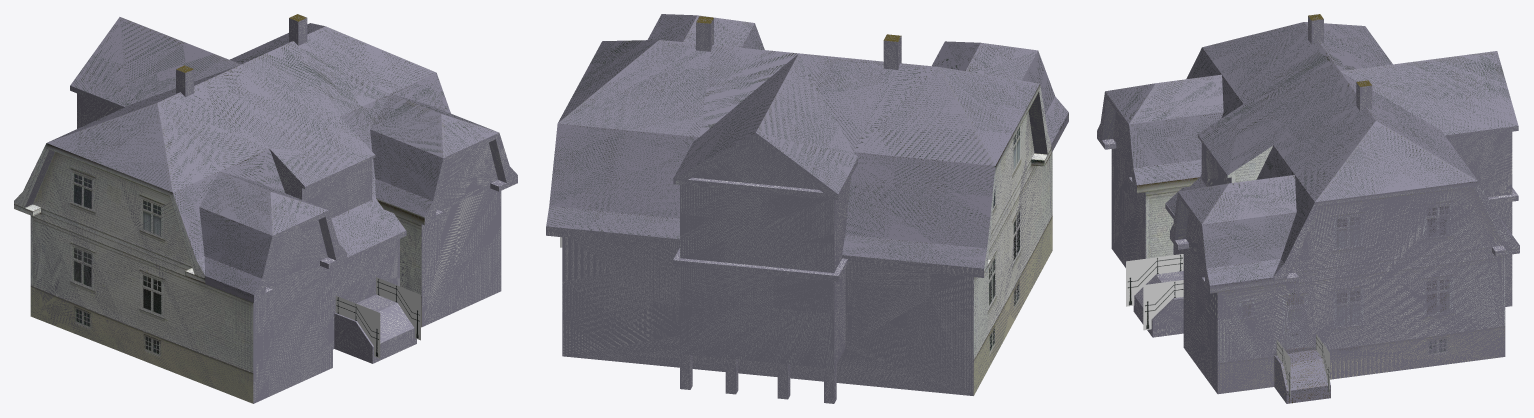
The model's file is house.fbx.
The picture shows the model from 3 angles, left to right: view 1: azimuth 30°, elevation 25°; view 2: azimuth 150°, elevation 25°; view 3: azimuth 270°, elevation 25°; orthographic projection. The views are drawn at different scales.
Visible parts, largest first — view 1: HOFDI_01_1; view 2: HOFDI_01_1; view 3: HOFDI_01_1.
Part boxes in pixels (bbox=[...]): HOFDI_01_1: bbox=[14, 14, 517, 403]; HOFDI_01_1: bbox=[546, 14, 1068, 403]; HOFDI_01_1: bbox=[1097, 14, 1519, 403].
Size of the model in its own units: 23.64 by 13.63 by 21.05.
